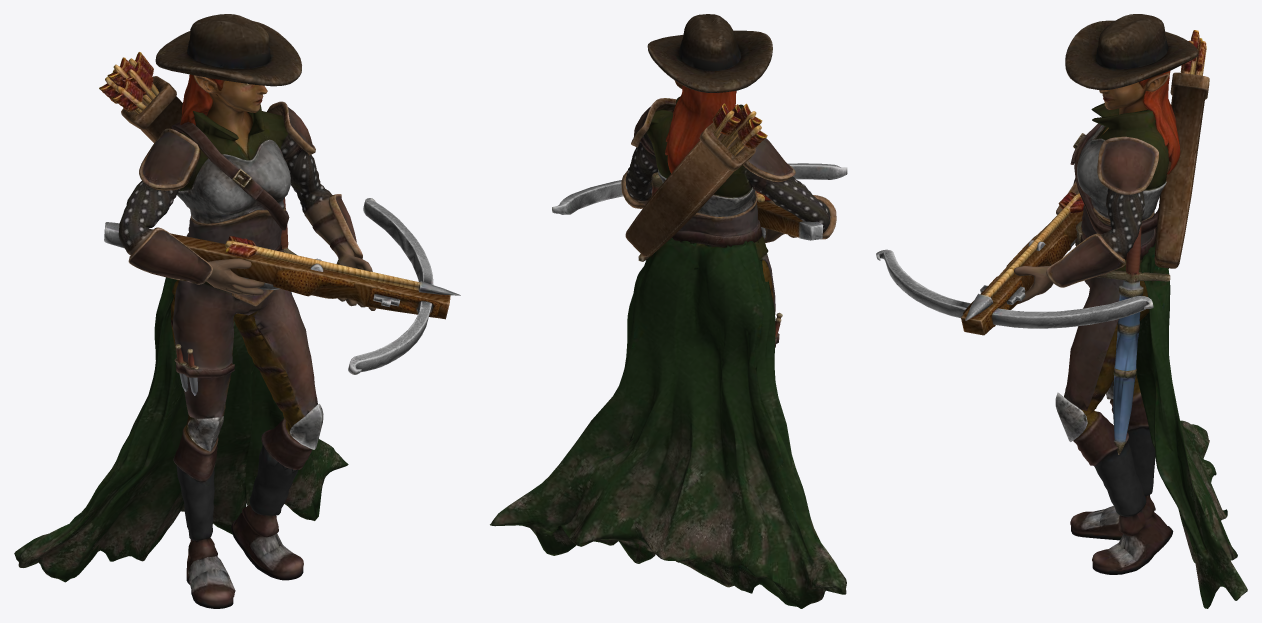
File: MZ4250 - Elf Female Crossbow Ranger.glb
3 renders of one model, left to right at view 1: azimuth 30°, elevation 25°; view 2: azimuth 150°, elevation 25°; view 3: azimuth 270°, elevation 25°, orthographic. The views are drawn at different scales.
Parts seen in each view (by area): view 1: Elf Female Crossbow Ranger.001; view 2: Elf Female Crossbow Ranger.001; view 3: Elf Female Crossbow Ranger.001.
Boxes of the visible parts, <box> form: Elf Female Crossbow Ranger.001: <box>14,14,460,608</box>; Elf Female Crossbow Ranger.001: <box>490,14,847,608</box>; Elf Female Crossbow Ranger.001: <box>876,14,1247,608</box>.
Bounding box in the file's own units: 25.21 × 38.56 × 24.41.
1 material, 1 textured.
